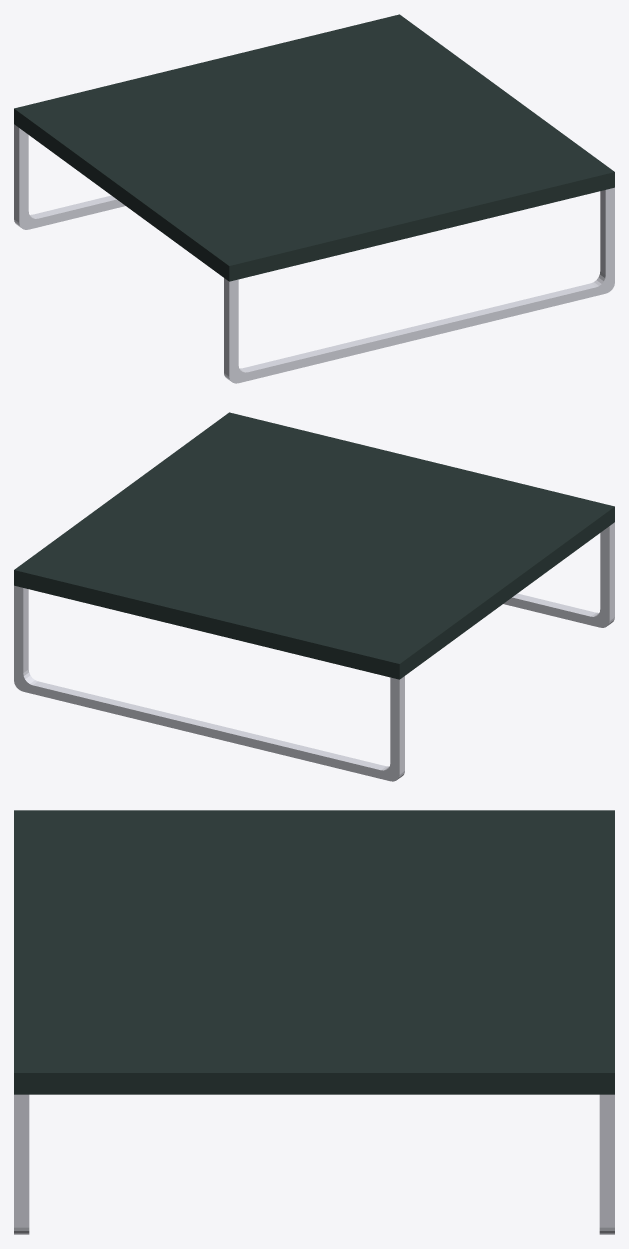
The model's file is Prop_Table_08.fbx.
3 renders of one model, top to bottom at view 1: azimuth 30°, elevation 25°; view 2: azimuth 150°, elevation 25°; view 3: azimuth 270°, elevation 25°, orthographic. The views are drawn at different scales.
Visible parts, largest first — view 1: Prop_Table_08; view 2: Prop_Table_08; view 3: Prop_Table_08.
Boxes of the visible parts, x1,y1,x2,y2 form: Prop_Table_08: (14, 14, 614, 383); Prop_Table_08: (14, 412, 614, 781); Prop_Table_08: (14, 810, 614, 1234).
Bounding box in the file's own units: 125 × 37.11 × 121.
